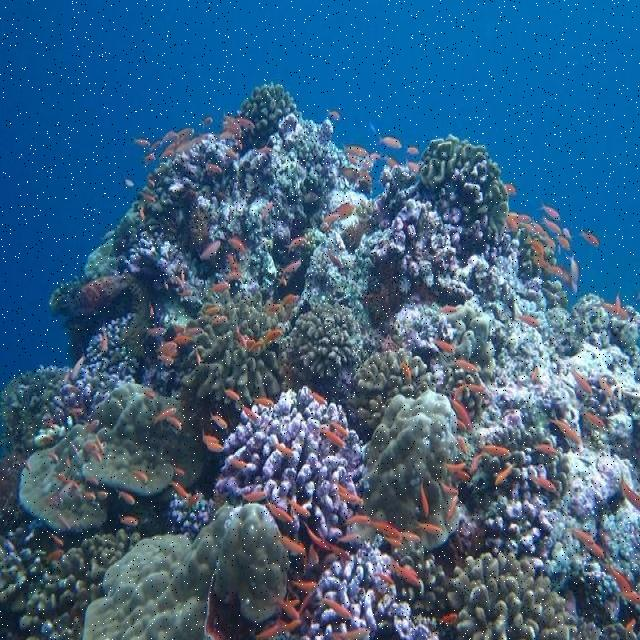fish: (418, 337, 455, 494), (132, 139, 419, 154), (415, 494, 441, 535), (166, 128, 209, 152), (548, 412, 579, 444), (615, 472, 639, 511), (597, 293, 630, 320), (389, 558, 420, 586), (304, 522, 332, 552), (321, 535, 352, 562), (369, 517, 403, 541), (316, 424, 346, 449), (319, 597, 352, 618), (569, 364, 592, 394), (265, 500, 293, 524), (565, 524, 594, 546), (452, 399, 473, 429), (579, 405, 606, 428), (70, 348, 88, 380), (529, 471, 556, 492), (418, 468, 429, 519), (495, 460, 517, 485), (349, 153, 381, 170), (524, 231, 544, 257), (447, 358, 479, 374), (280, 535, 305, 555), (286, 498, 311, 518), (538, 198, 560, 220), (337, 165, 360, 186), (339, 484, 362, 505), (222, 113, 242, 137), (227, 235, 253, 253), (578, 226, 600, 247), (284, 237, 307, 257), (334, 627, 372, 639), (331, 201, 355, 220), (152, 406, 176, 425), (240, 333, 264, 352), (157, 130, 180, 149), (200, 240, 221, 260), (446, 494, 460, 524), (566, 251, 579, 283), (563, 267, 577, 296), (516, 311, 543, 326), (169, 480, 189, 500), (279, 258, 301, 276), (483, 445, 512, 458), (277, 615, 302, 630), (341, 144, 369, 157), (542, 215, 561, 234), (544, 261, 564, 279), (239, 401, 257, 421), (438, 480, 459, 497), (584, 542, 605, 558), (43, 549, 64, 565), (377, 136, 402, 149), (335, 531, 362, 543), (307, 542, 319, 569), (154, 341, 177, 355), (471, 451, 487, 471), (618, 590, 639, 605), (115, 490, 136, 505), (383, 534, 404, 549), (256, 624, 278, 638), (554, 234, 571, 252), (137, 189, 157, 204), (504, 212, 519, 232), (544, 234, 556, 259), (345, 511, 368, 524), (209, 413, 227, 429), (241, 491, 267, 502), (532, 444, 558, 455), (142, 152, 157, 171), (530, 216, 544, 236), (202, 428, 219, 444), (290, 581, 317, 591), (264, 329, 282, 343), (145, 327, 167, 338), (399, 532, 421, 543), (215, 129, 235, 141), (223, 386, 239, 401), (253, 397, 274, 408), (400, 362, 411, 383), (236, 117, 255, 129), (438, 613, 457, 625), (158, 148, 174, 162), (99, 230, 115, 244), (384, 154, 401, 167), (167, 416, 182, 430), (207, 440, 224, 452), (119, 516, 139, 526), (452, 470, 470, 481), (533, 253, 546, 268), (563, 227, 574, 244), (443, 462, 466, 470), (405, 160, 419, 173), (50, 534, 63, 548), (505, 183, 518, 195), (515, 214, 532, 223), (187, 327, 204, 336), (203, 306, 220, 315), (158, 355, 174, 364), (68, 407, 85, 415), (97, 491, 108, 501), (101, 338, 108, 353), (616, 292, 620, 315)
reefs: (0, 82, 639, 639)
